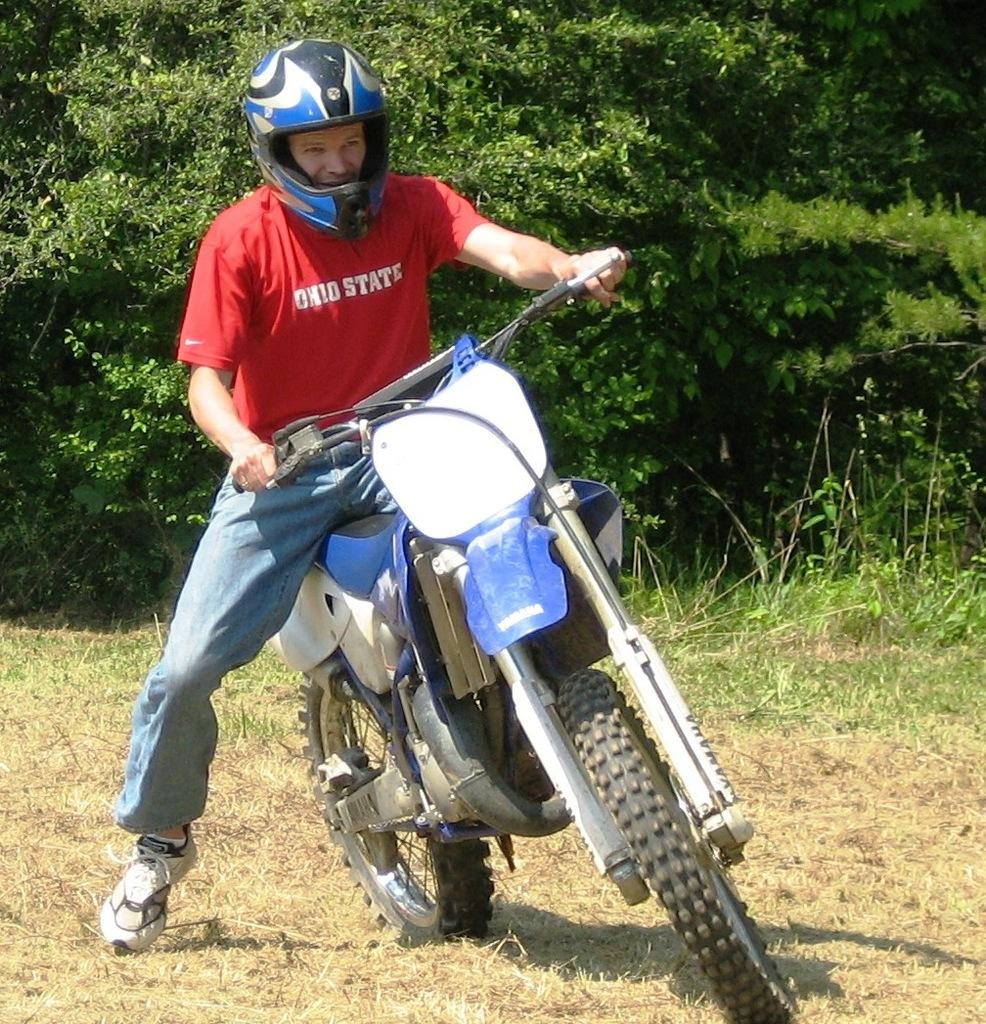helmet: (243, 37, 392, 243)
